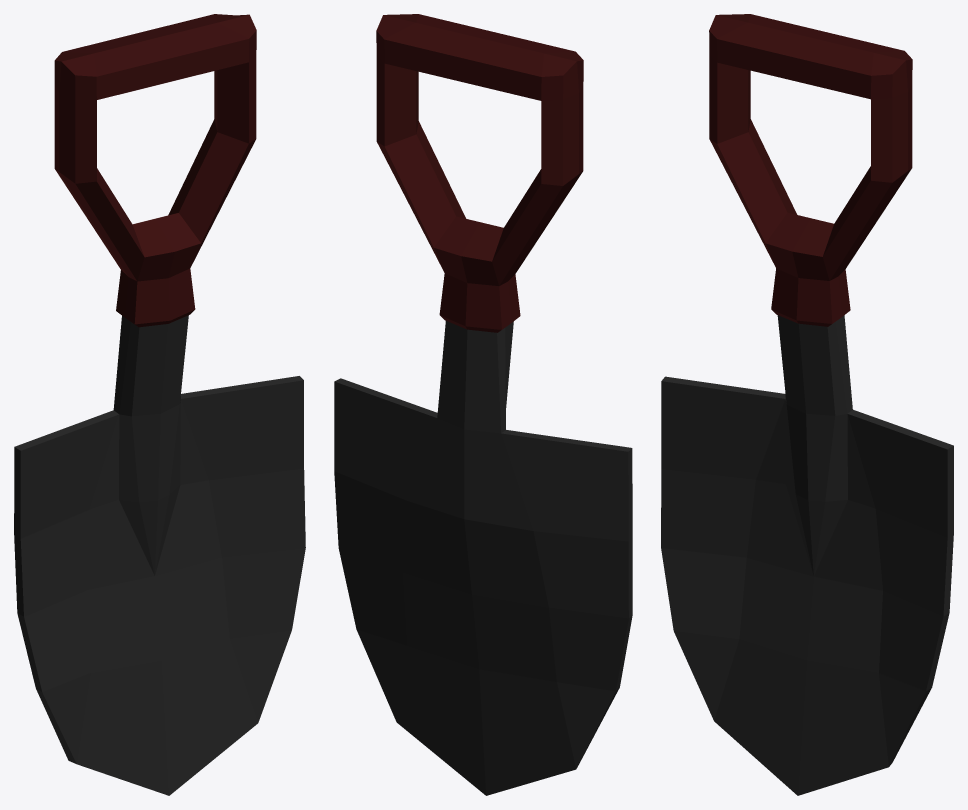
Rendered from Shovel_Toy.obj.
The picture shows the model from 3 angles, left to right: view 1: azimuth 30°, elevation 25°; view 2: azimuth 150°, elevation 25°; view 3: azimuth 330°, elevation 25°; orthographic projection.
Visible parts, largest first — view 1: Shovel; view 2: Shovel; view 3: Shovel.
Boxes of the visible parts, box(x1,y1,x2,y2) form: Shovel: box(14, 14, 305, 795); Shovel: box(334, 14, 632, 795); Shovel: box(661, 14, 953, 795).
Bounding box in the file's own units: 0.8046 × 2 × 0.1837.
